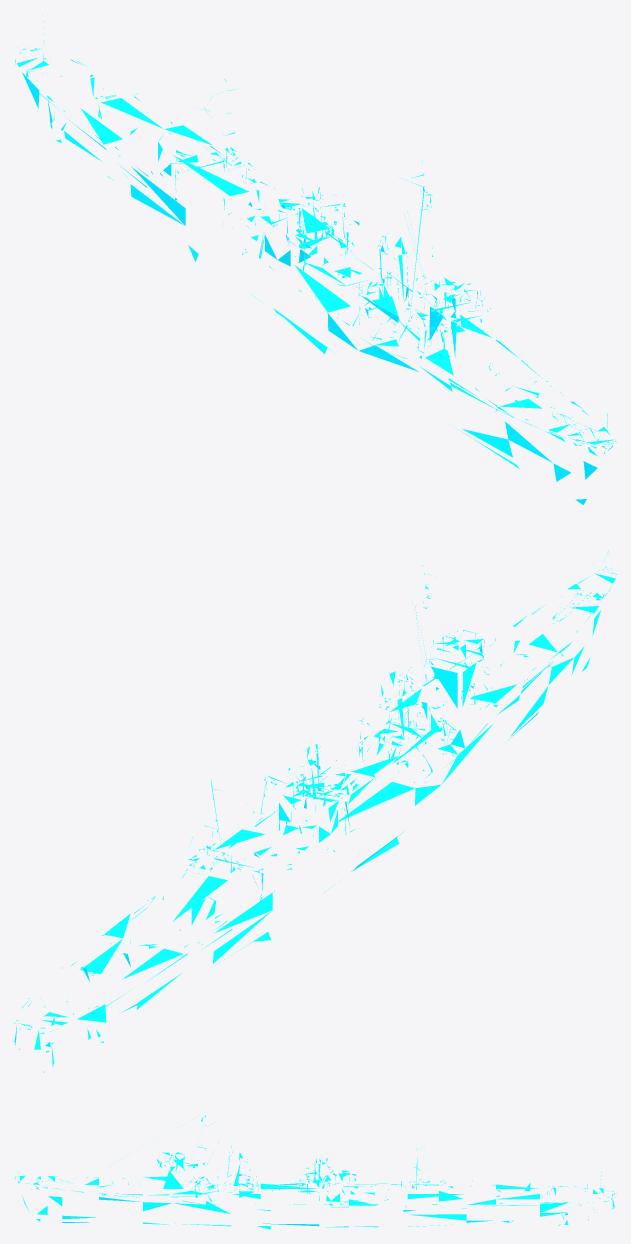
Rendered from Asashio.glb.
3 views of the same model, one above another, from view 1: azimuth 30°, elevation 25°; view 2: azimuth 150°, elevation 25°; view 3: azimuth 270°, elevation 25° (orthographic). The views are drawn at different scales.
Size of the model in its own units: 0.7175 by 1.76 by 7.86.
